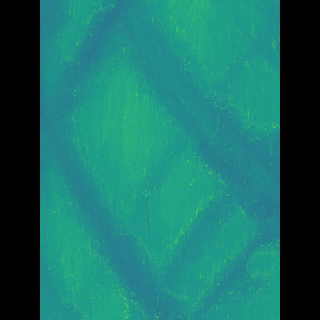Loch: (83, 136, 182, 320), (180, 100, 250, 320), (76, 0, 148, 124)
